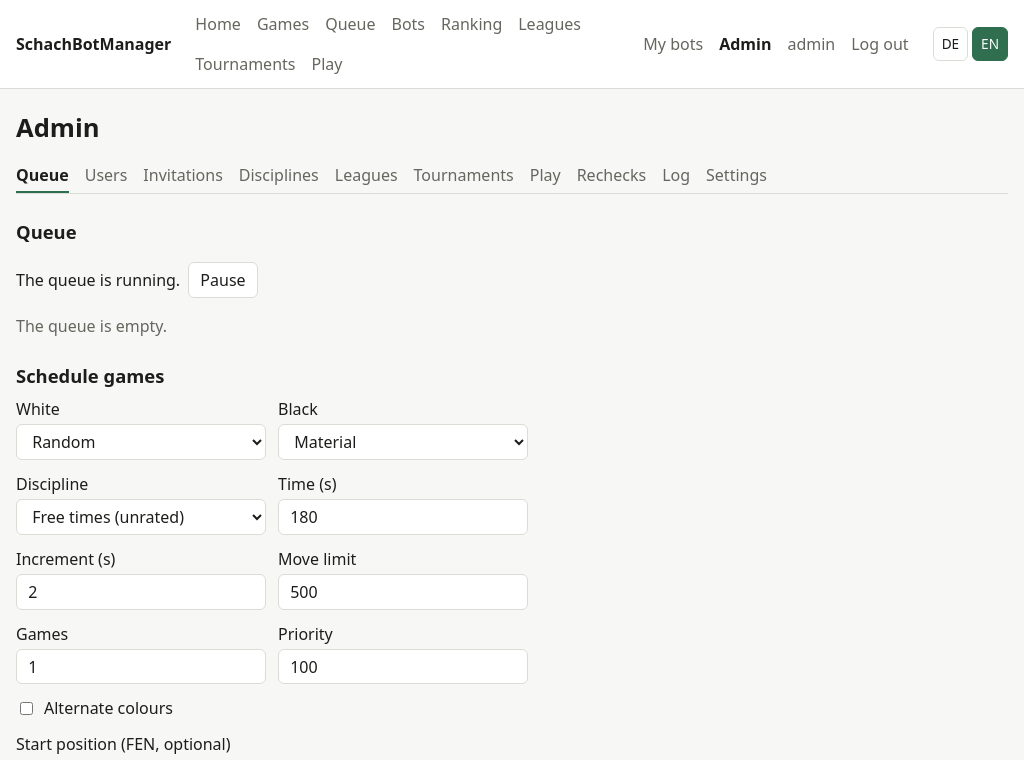
it: random bots › lets admins draw both sides for every game
The width and height of the screenshot is (1024, 760).
Select "Random" in the dropdown labelled "White" at coordinates (141, 442), box [16,424,266,460]
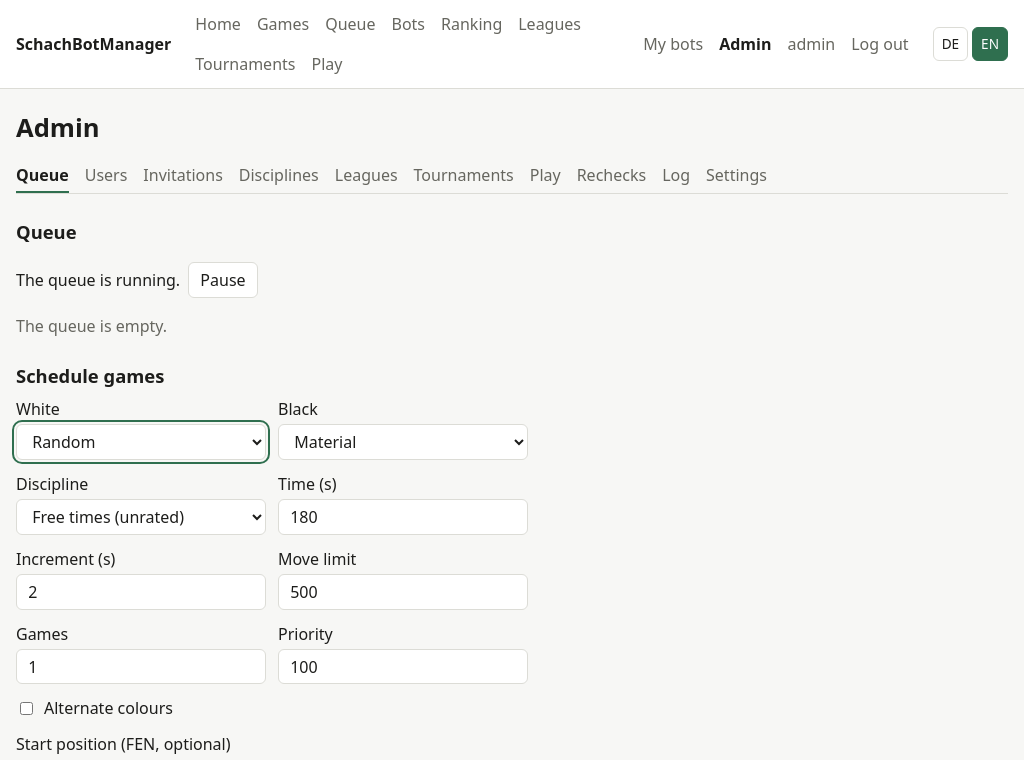
Select "Random" in the dropdown labelled "Black" at coordinates (403, 442), box [278,424,528,460]
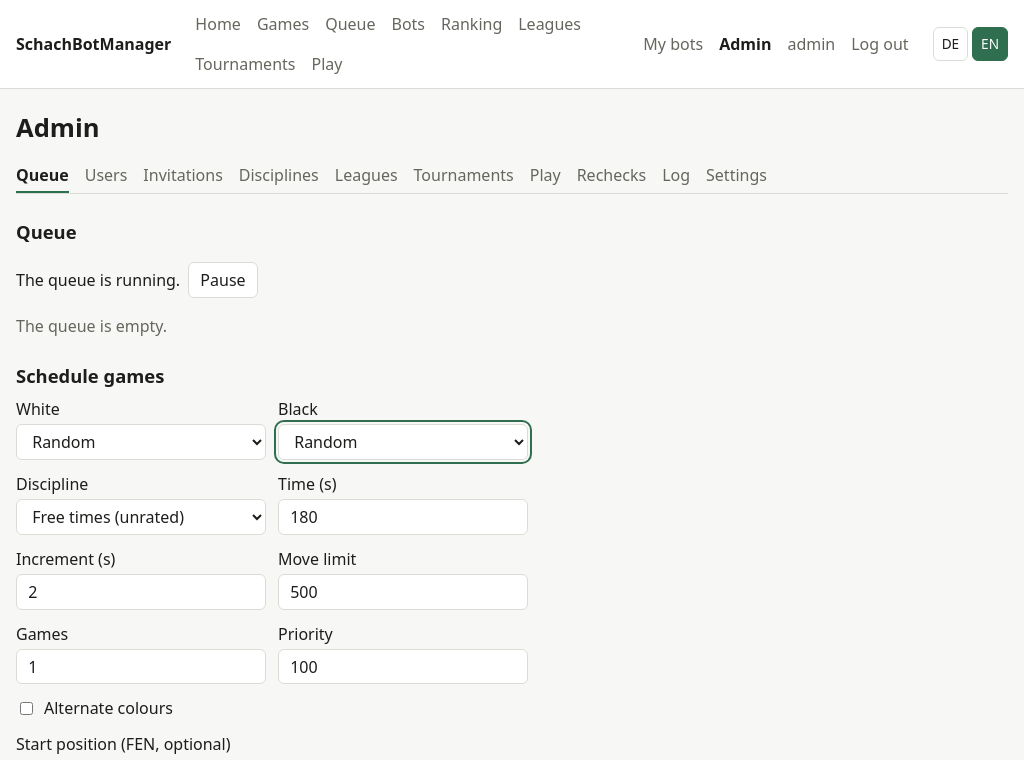
Replace the text in the number field labelled "Games" with "10" at coordinates (141, 666), box [16,649,266,684]
(page scrolled)
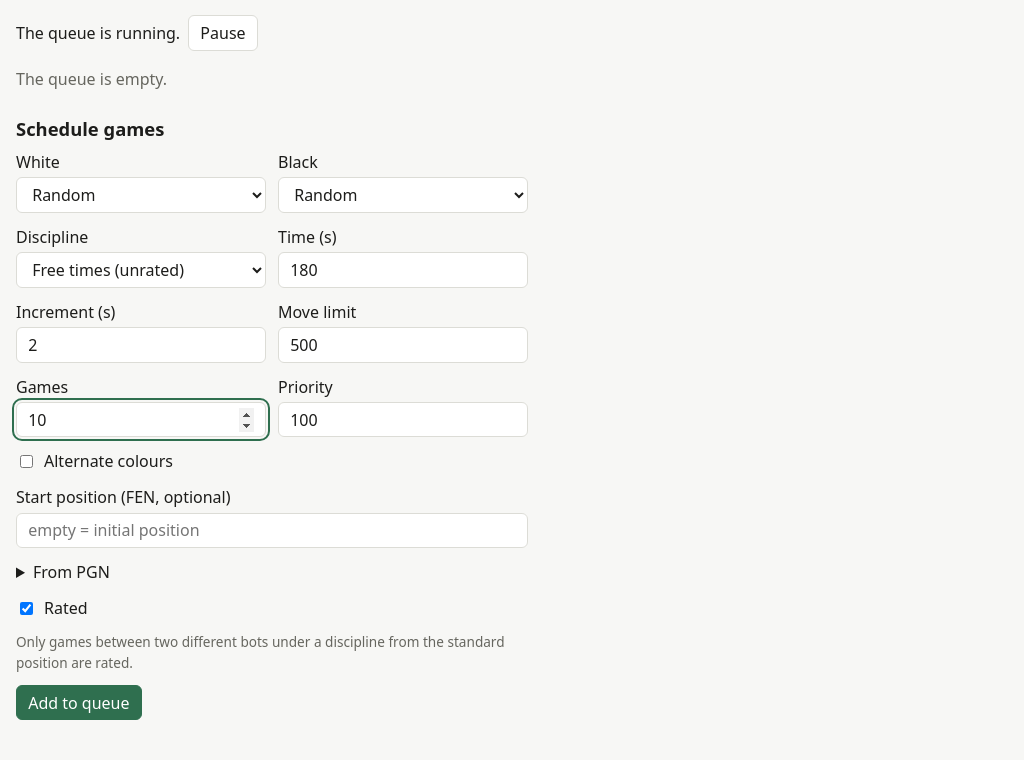
Click the button "Add to queue" at coordinates (79, 703), box [16,685,142,720]
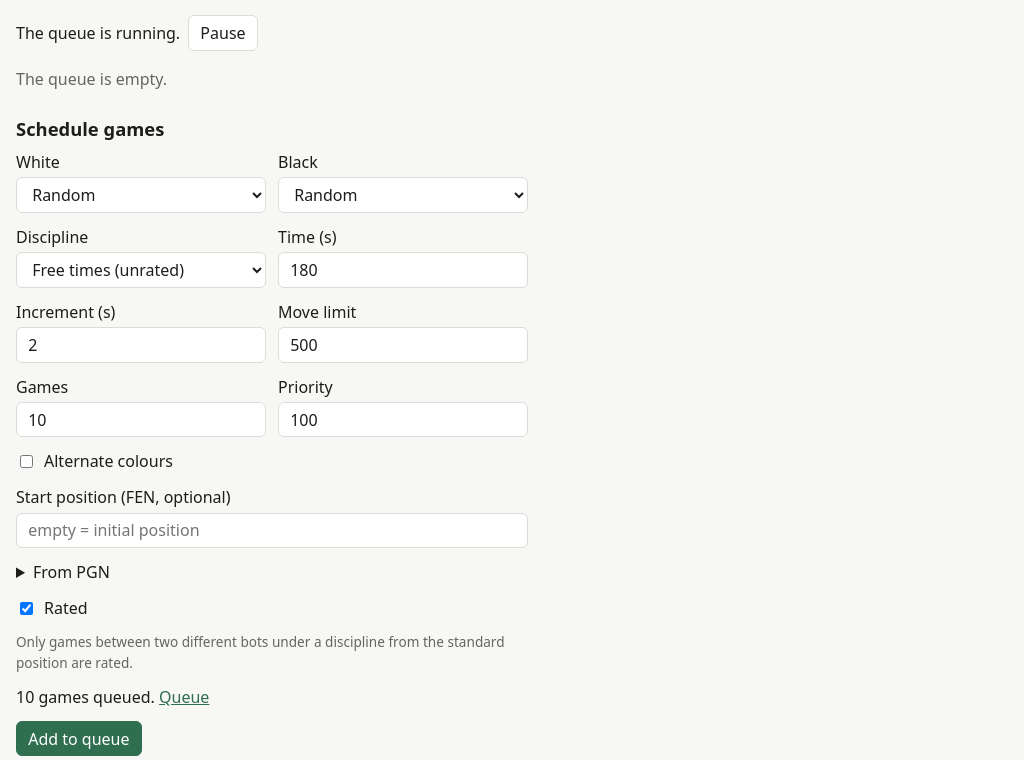
Expected: the text "10 games queued." is shown, [16,686,155,708]
